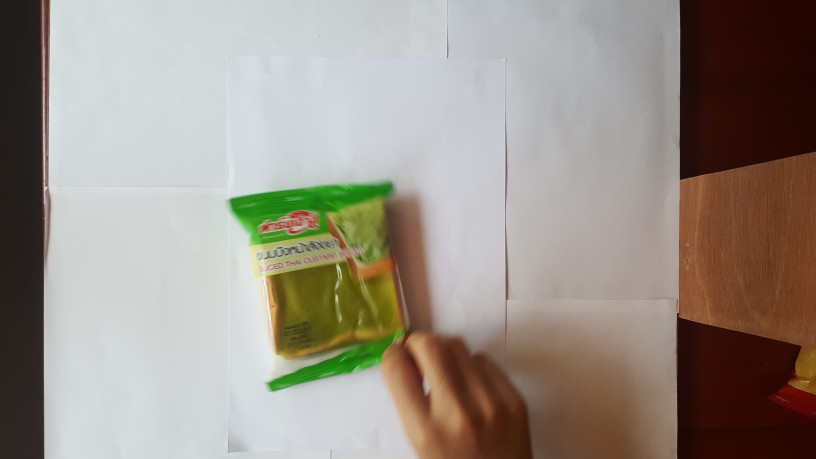farmhouse-bread-pandan: (219, 171, 415, 400)
